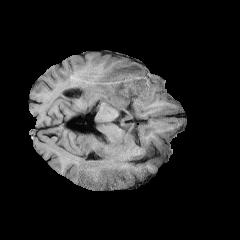glioma: (96, 62, 151, 107)
